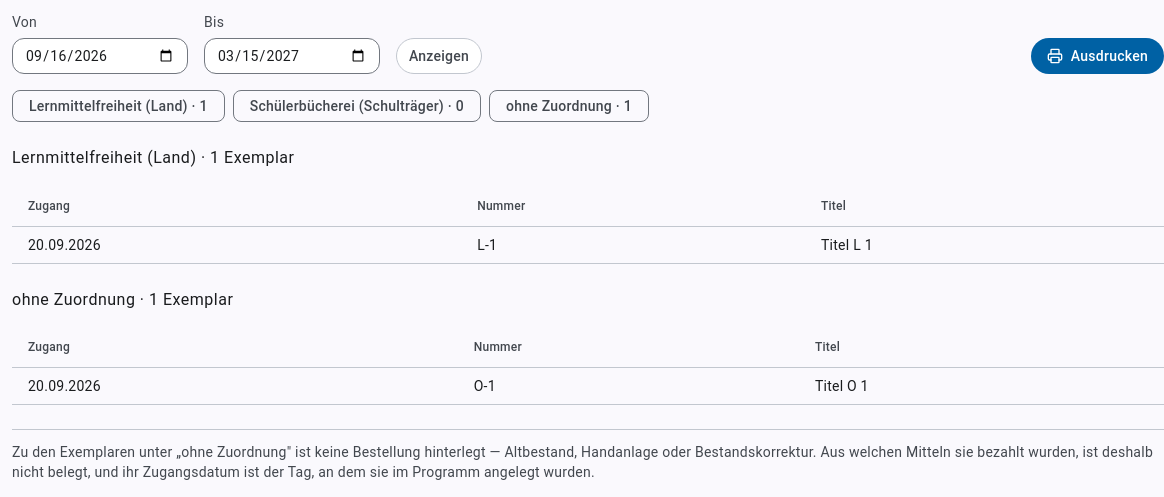
Test case: Bestandsbuch: die Töpfe als Felder mit Zahl › erklärt „ohne Zuordnung“ nur, solange diese Liste zu sehen ist
Expected: the element named "Nach Mittelherkunft filtern" is shown, [12, 90, 649, 122]
Expected: the text "keine Bestellung hinterlegt" is shown, [12, 444, 1153, 480]
What coordinates should you click on to do the following:
click the button "Lernmittelfreiheit (Land) · 1"
I would click on:
 (118, 106)
Its box is [12, 90, 225, 122].
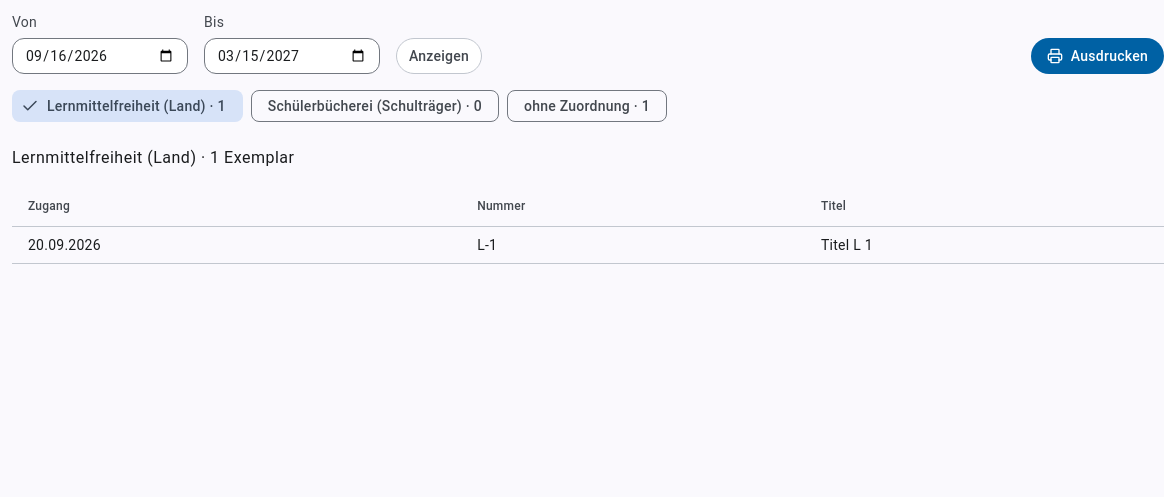
Expected: the text "keine Bestellung hinterlegt" is gone
